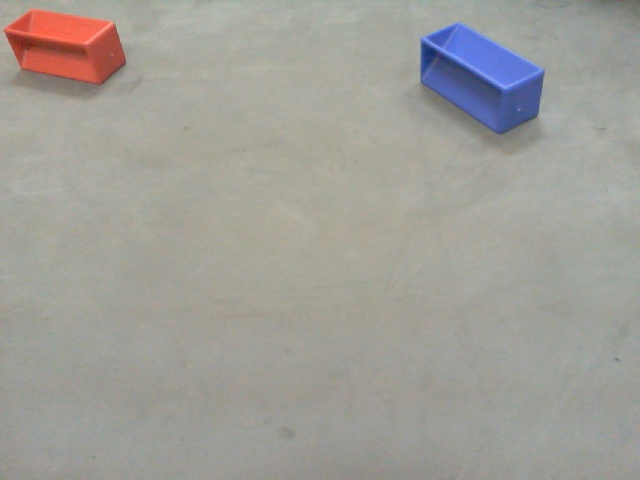BlueSample: (412, 19, 547, 140)
RedSample: (2, 8, 127, 90)
